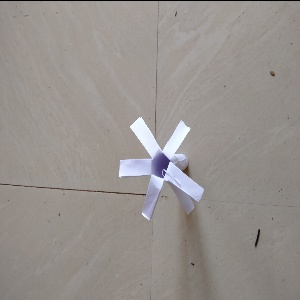weed: (118, 110, 203, 223)
